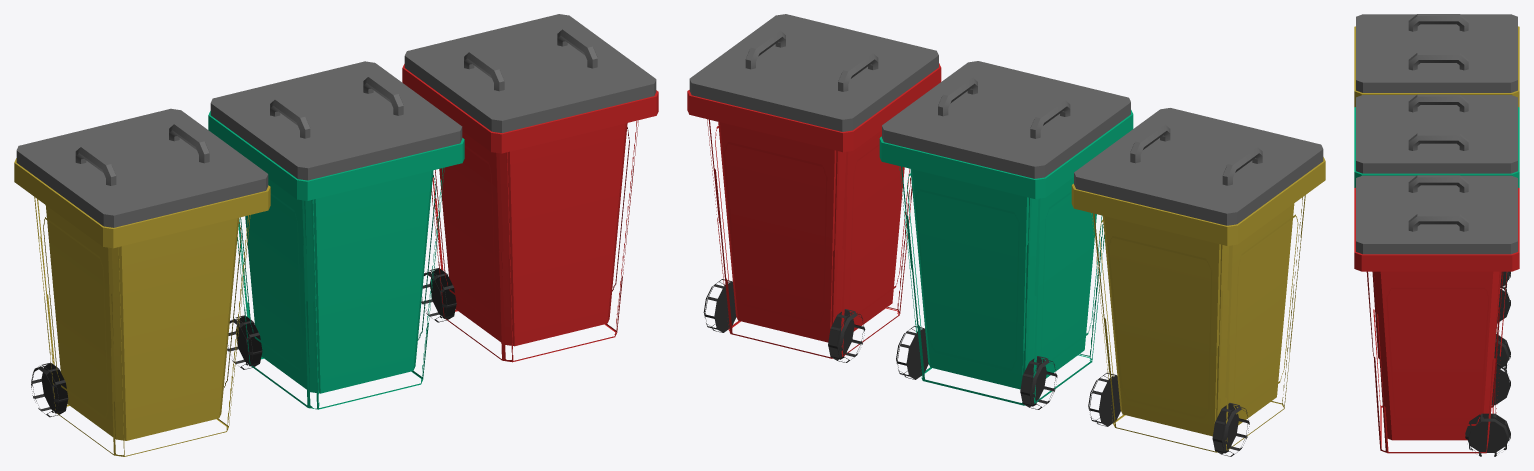
The model's file is Garbage.FBX.
The picture shows the model from 3 angles, left to right: view 1: azimuth 30°, elevation 25°; view 2: azimuth 150°, elevation 25°; view 3: azimuth 270°, elevation 25°; orthographic projection. The views are drawn at different scales.
Visible parts, largest first — view 1: Object, Object001, Object002, UpObject001, UpObject, UpObject002; view 2: Object, Object001, Object002, UpObject002, UpObject, UpObject001; view 3: Object002, UpObject002, UpObject001, UpObject, Object001, Object.
Boxes of the visible parts, bbox=[...] form: Object: bbox=[14, 158, 270, 456]; Object001: bbox=[208, 111, 464, 409]; Object002: bbox=[402, 64, 658, 362]; UpObject001: bbox=[210, 61, 462, 180]; UpObject: bbox=[16, 108, 268, 227]; UpObject002: bbox=[404, 14, 656, 132]; Object: bbox=[1071, 157, 1325, 456]; Object001: bbox=[879, 110, 1133, 409]; Object002: bbox=[687, 63, 941, 362]; UpObject002: bbox=[689, 14, 938, 131]; UpObject: bbox=[1074, 108, 1323, 225]; UpObject001: bbox=[882, 61, 1130, 178]; Object002: bbox=[1354, 187, 1519, 456]; UpObject002: bbox=[1356, 175, 1517, 254]; UpObject001: bbox=[1356, 94, 1517, 173]; UpObject: bbox=[1356, 14, 1517, 92]; Object001: bbox=[1354, 107, 1519, 368]; Object: bbox=[1354, 26, 1519, 288].
Size of the model in its own units: 373 by 113 by 176.
Materials: 6 (6 with a texture image).
